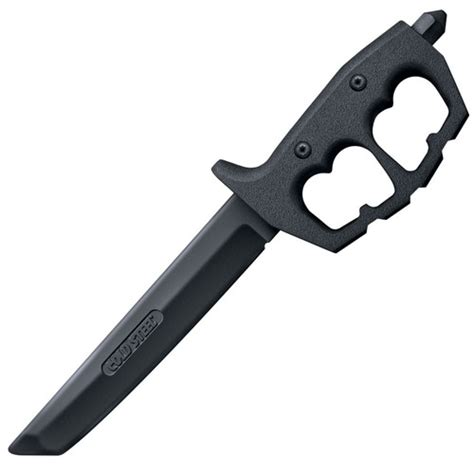knife: (8, 6, 470, 457)
